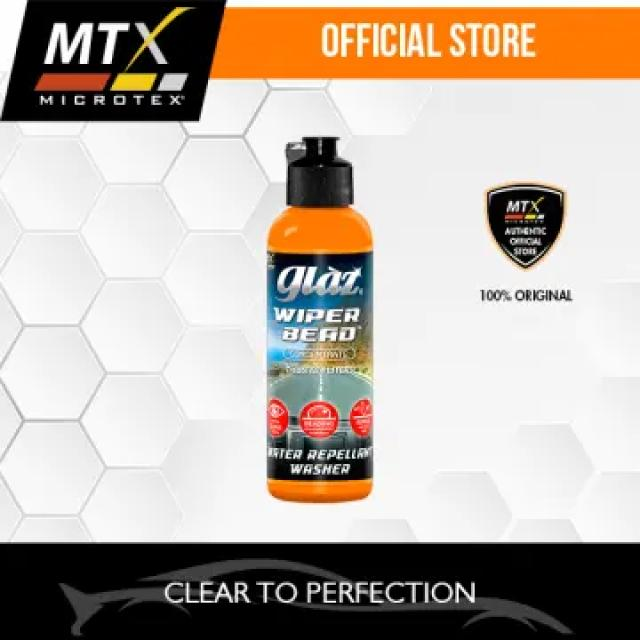winwinshield_washer: (262, 131, 379, 507)
